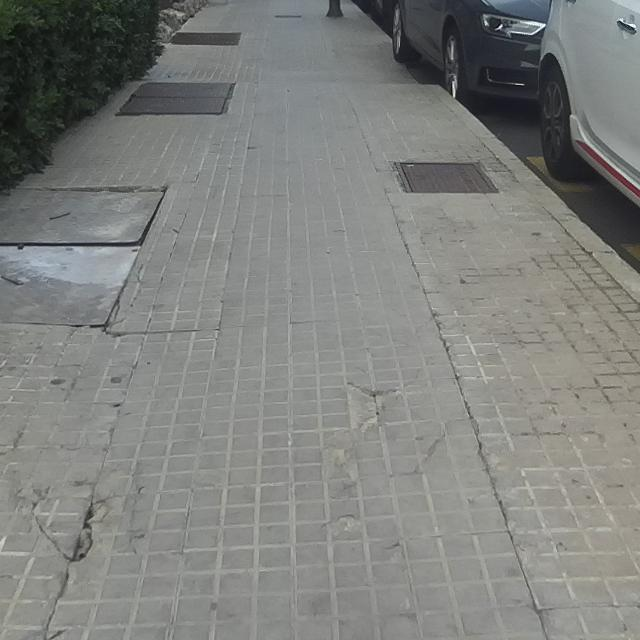calcada_quebrada: (13, 478, 116, 574), (336, 372, 406, 437), (316, 437, 371, 492), (308, 508, 377, 546)
